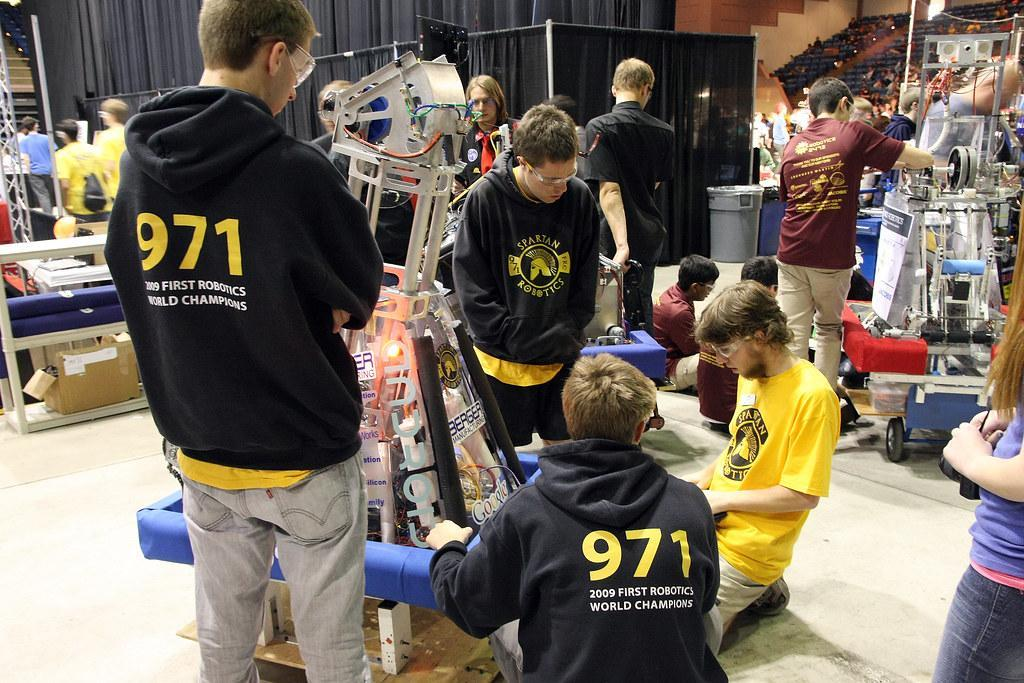robot: (130, 27, 597, 629), (833, 24, 1023, 383), (450, 109, 679, 403)
